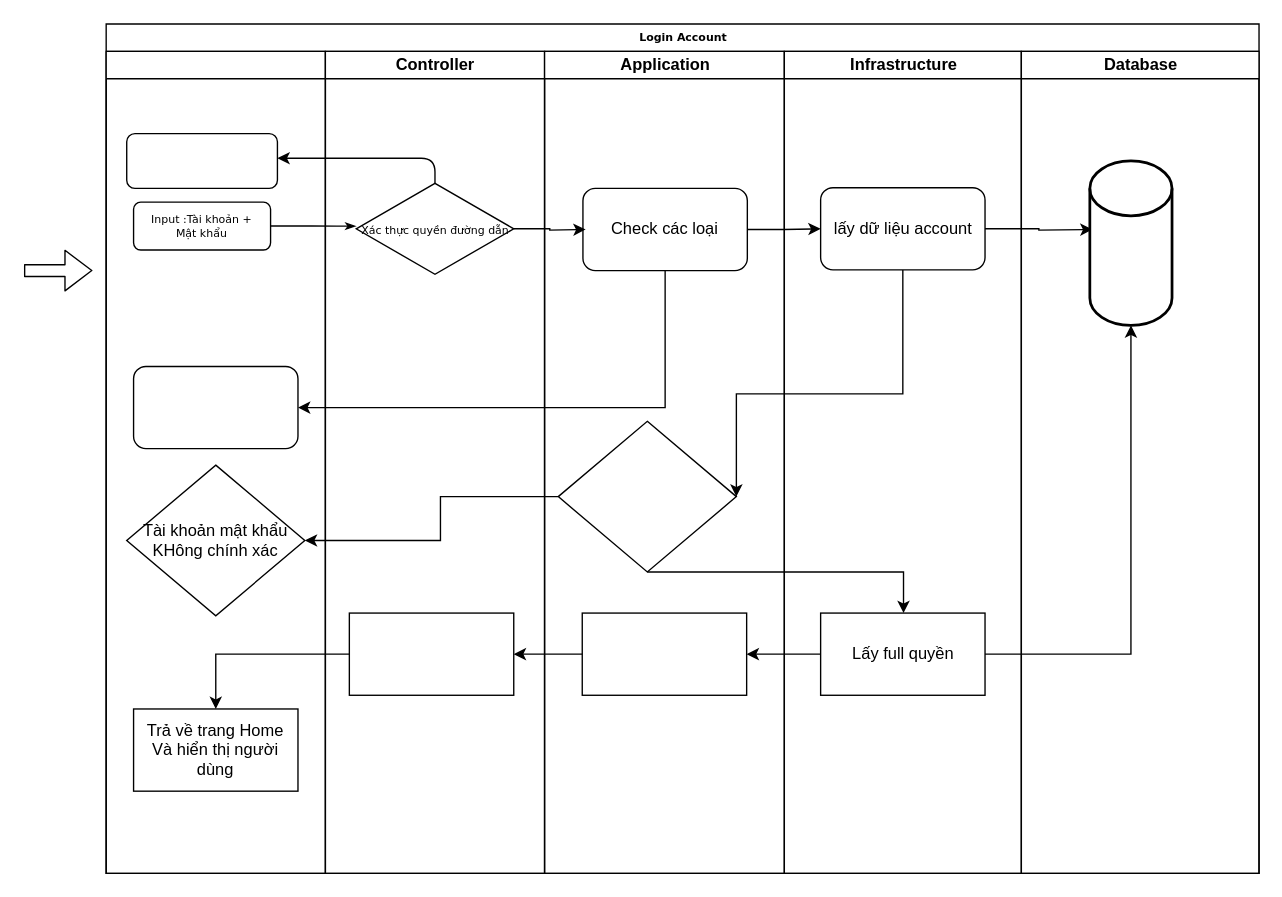
The diagram is 1282 pixels wide and 897 high, and some of its shapes have lost their labels. Here are the shapes that lost their labels. From the top down, the box of each, then its label:
(125, 132, 277, 188): Thông Báo không hợp lệ và chuyển về trang home
(132, 365, 298, 449): Tài khoản mật khẩu Sai định dạng
(105, 50, 325, 873): Client
(557, 420, 736, 572): Thông tin tài khoản
(348, 612, 514, 695): Lưu tất cả vào Session
(581, 612, 747, 695): Quyền và thông tin tài khoản
